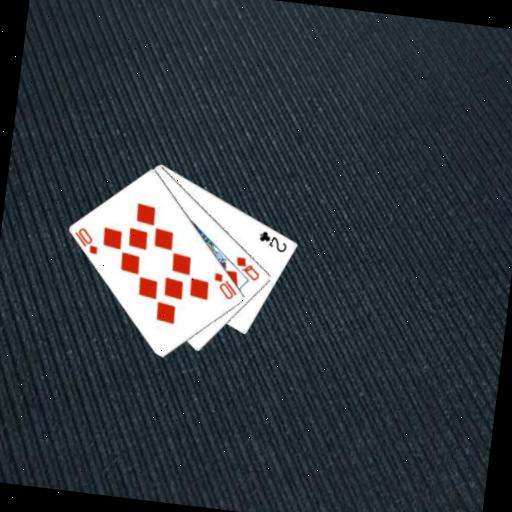10D: (209, 269, 241, 302), (70, 224, 102, 256)
2C: (255, 227, 291, 255)
QD: (231, 253, 263, 283)
